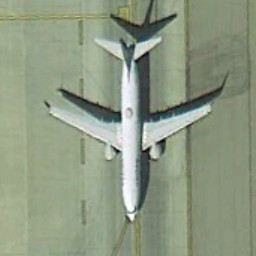Airplane: (33, 30, 220, 235)
